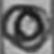correct: (4, 2, 50, 54)
